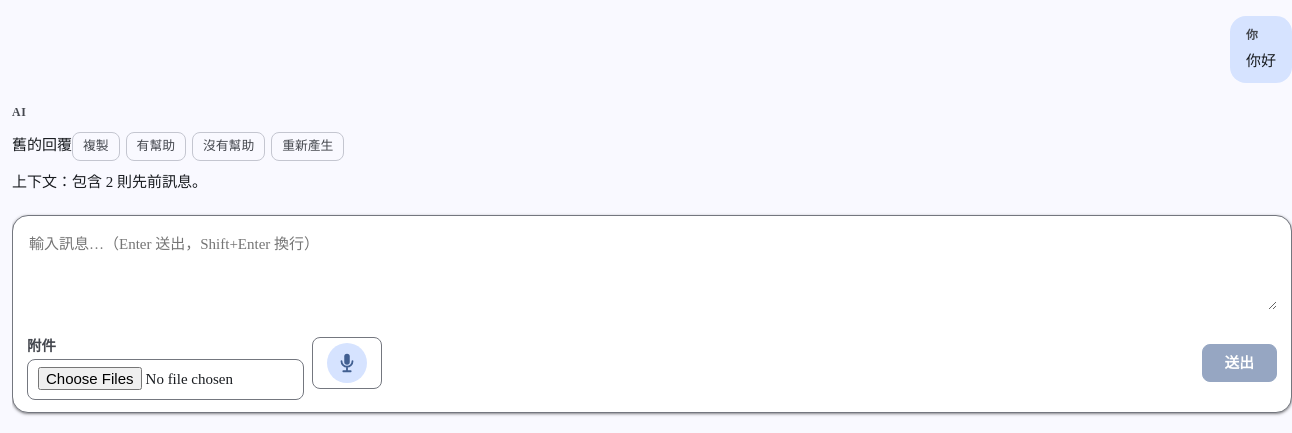
Scenario: MessageThread generation status phases (E03-S011) › falls back to the generic streaming status once the phase sequence completes and real text starts arriving
expect the text "舊的回覆" is shown: met, box [12,137,72,153]
Step 1. Click the button "重新產生" → [308, 146], box [271,132,344,161]
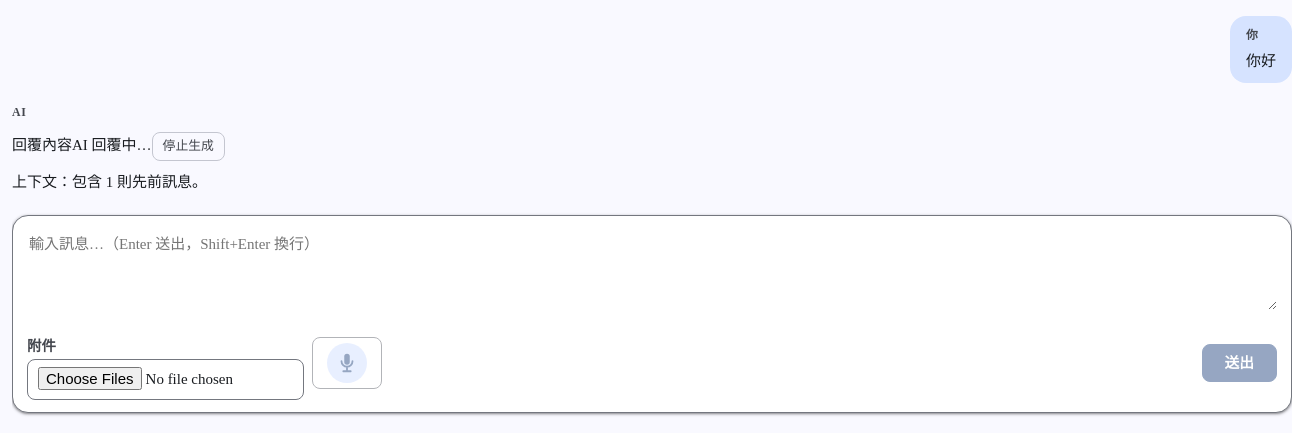
expect the text "回覆內容" is shown: met, box [12,137,72,153]
expect the message reads "AI 回覆中…": met, box [72,137,152,153]
